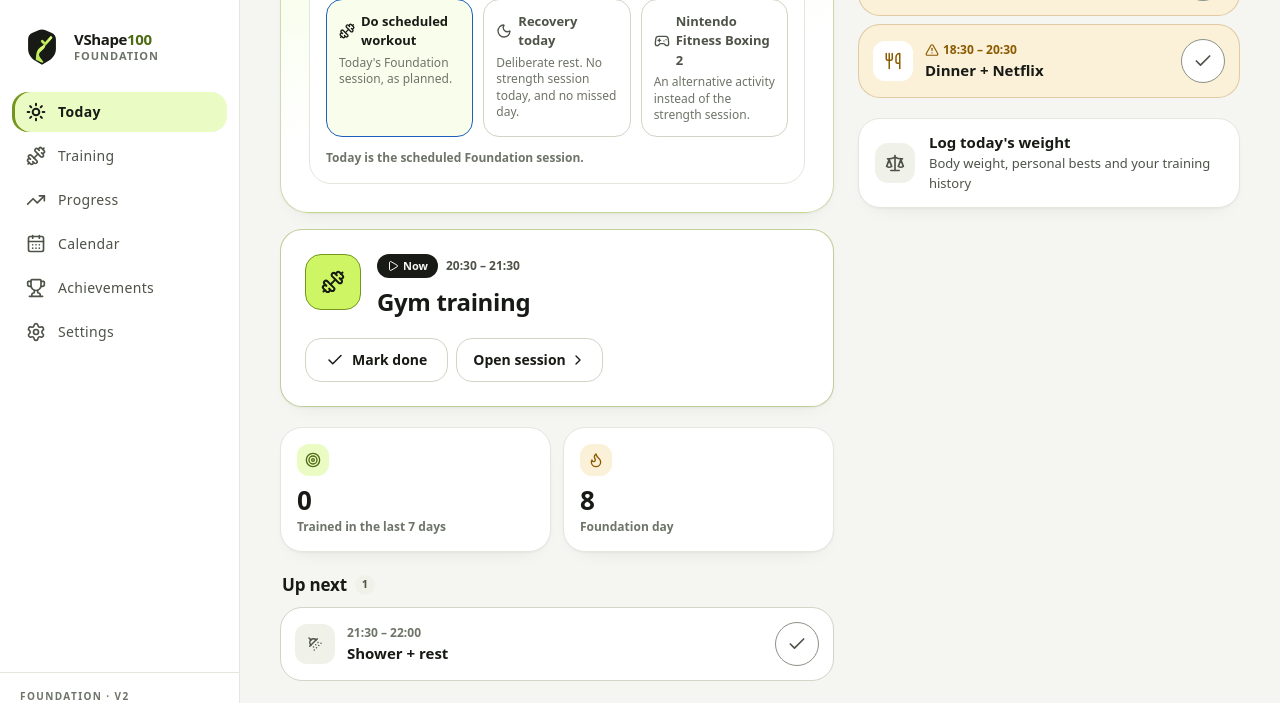
Test case: Today — manual completion › completes and undoes an item
(page scrolled)
Click the button with aria-label "Complete Gym training" at (377, 360), box x1=305 y1=338 x2=448 y2=382
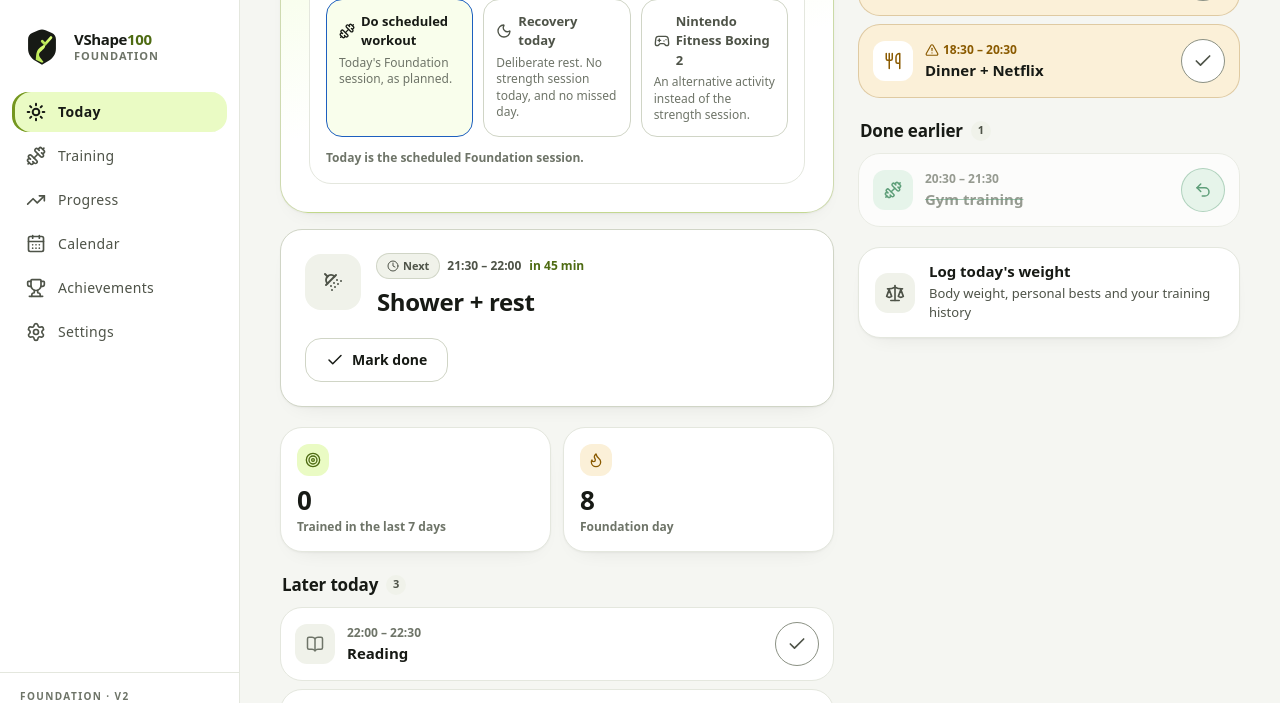
Now the element "Done earlier" is shown, box x1=858 y1=118 x2=1240 y2=228
Now the text "Gym training" is shown, box x1=925 y1=189 x2=1024 y2=209
Click the button named "Undo Gym training" at (1203, 190), box x1=1181 y1=168 x2=1225 y2=212
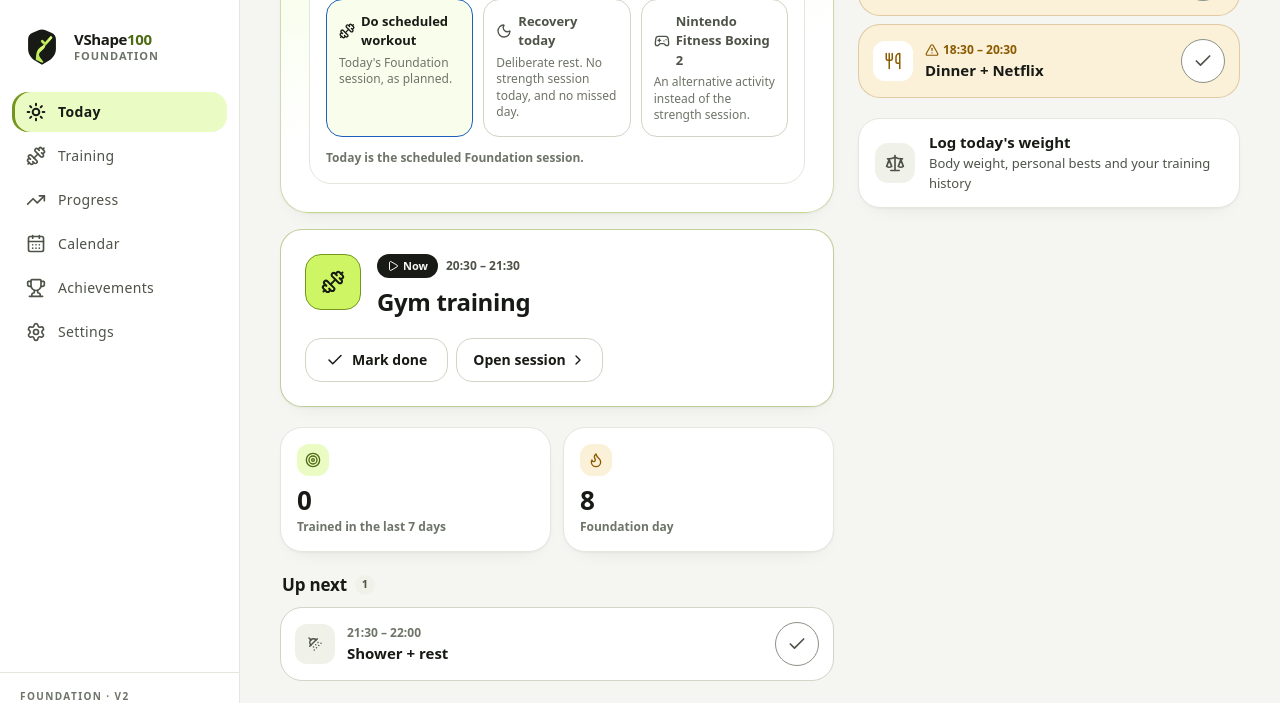
Now the heading "Done earlier" is gone
Now the heading "Gym training" is shown, box x1=377 y1=285 x2=530 y2=318
